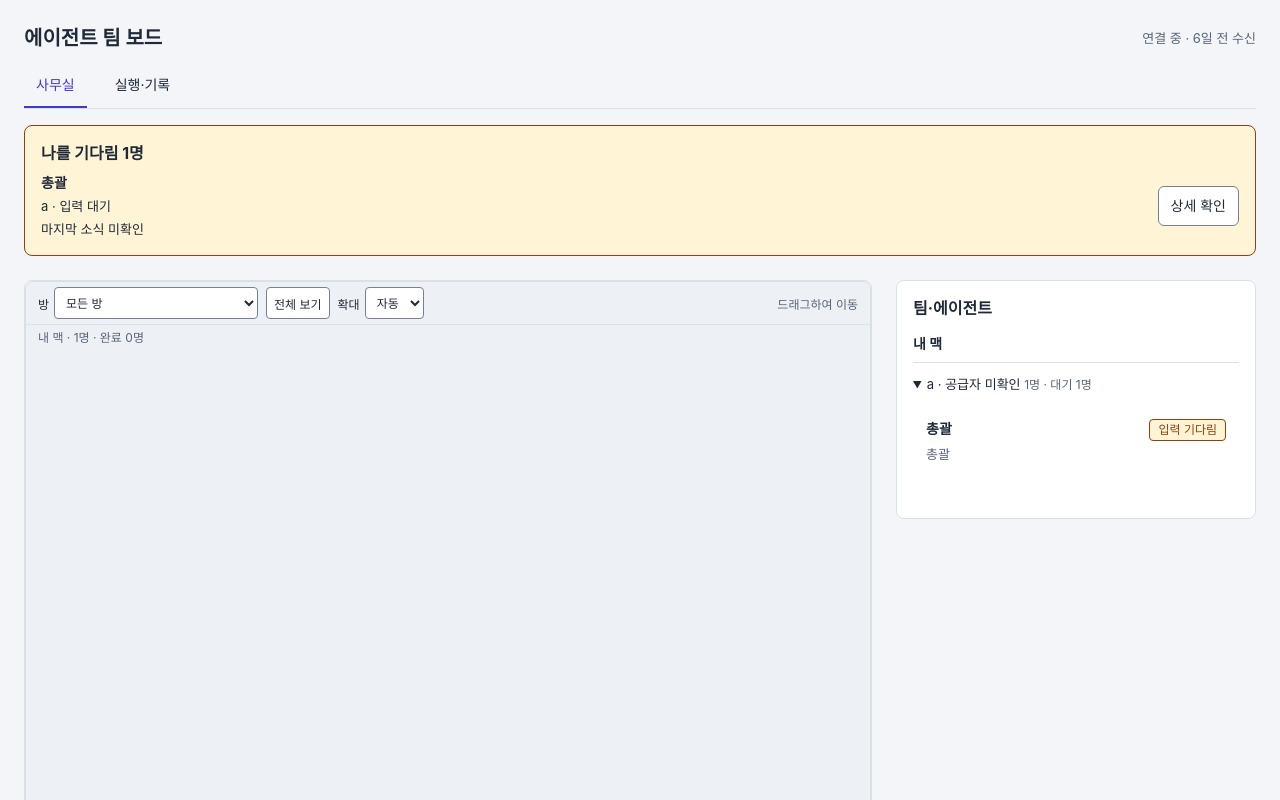
Scenario: BoardPage › 실행·기록 탭에서 팀 실행 결과를 본다
The width and height of the screenshot is (1280, 800).
Click the tab "실행·기록".
click(142, 86)  # box top-left (103, 64), bottom-right (182, 108)
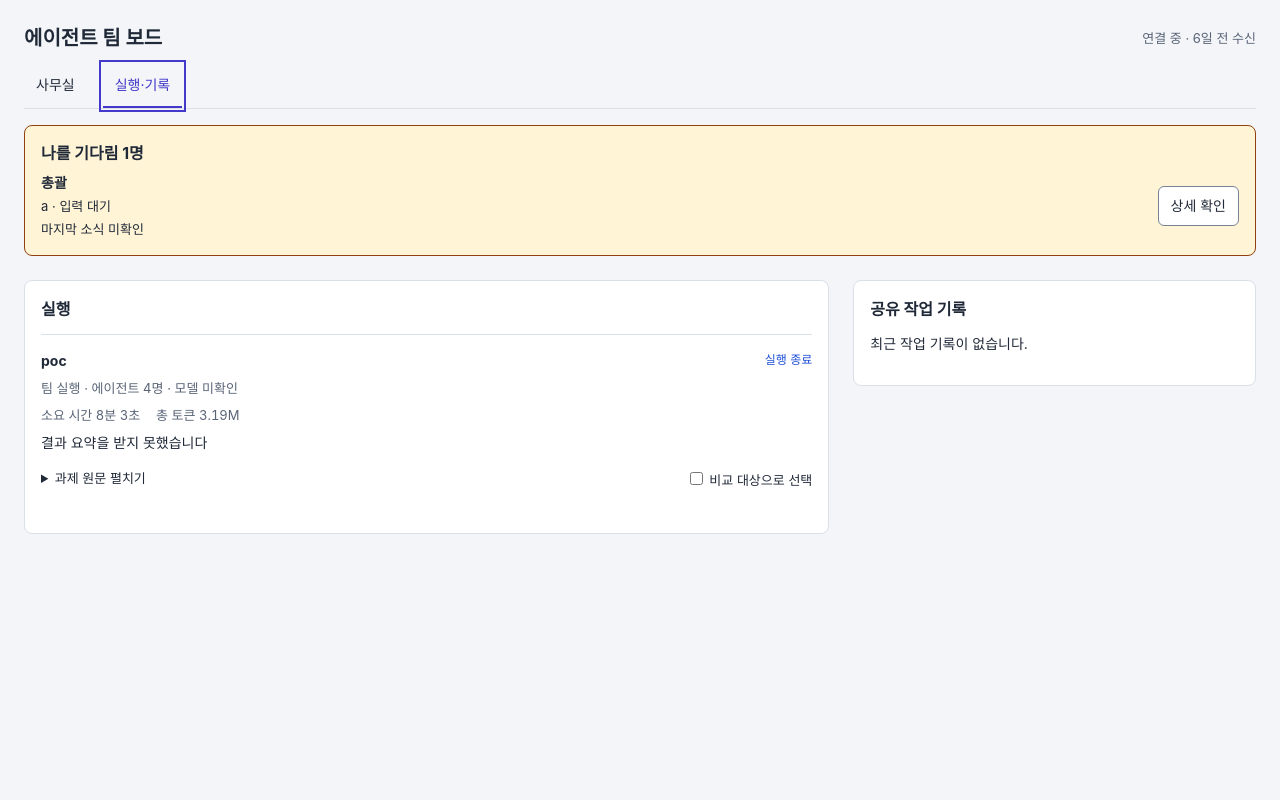
Now the element "실행" shows "3.19M", box top-left (199, 407), bottom-right (240, 423)
